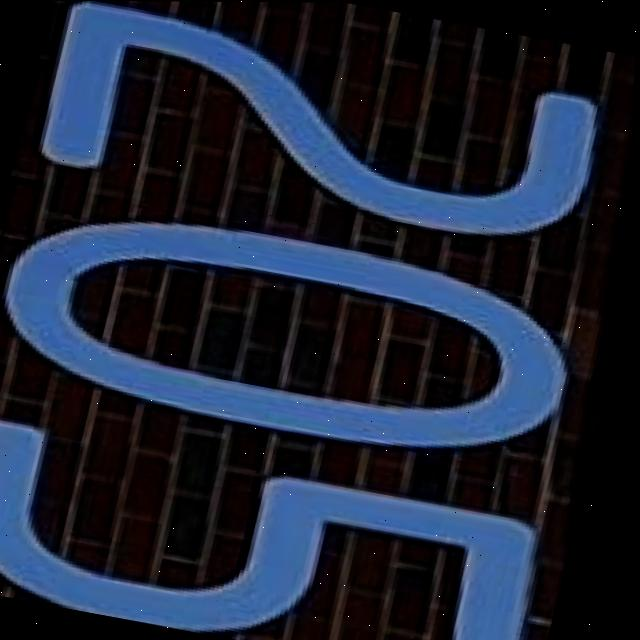character: (0, 179, 602, 489), (11, 0, 621, 269), (0, 401, 564, 640)
